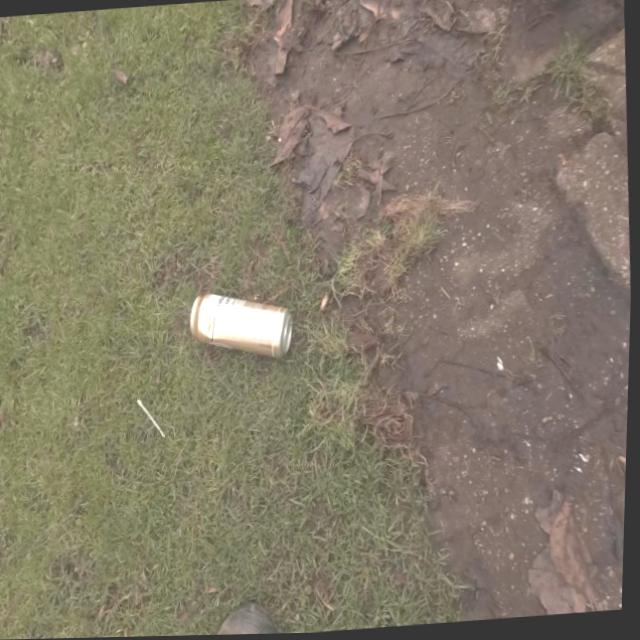Can-Metal: (186, 285, 298, 366)
